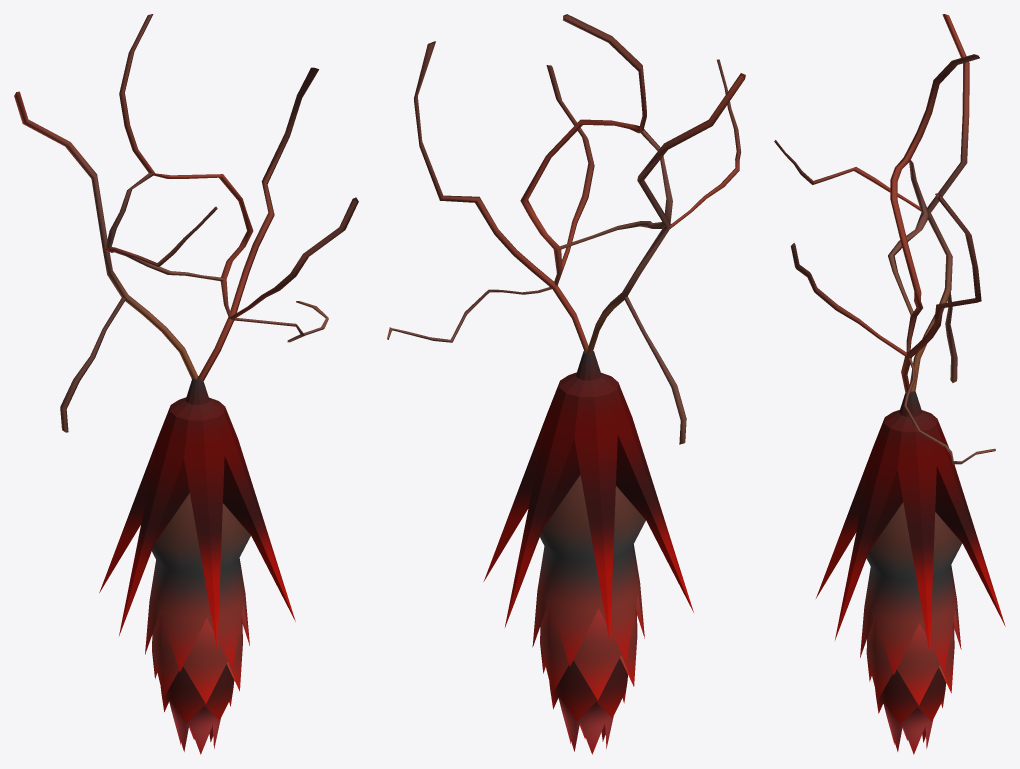
Rendered from Dread_Fruit_Pivot.fbx.
The picture shows the model from 3 angles, left to right: view 1: azimuth 30°, elevation 25°; view 2: azimuth 150°, elevation 25°; view 3: azimuth 270°, elevation 25°; orthographic projection. The views are drawn at different scales.
Visible parts, largest first — view 1: Spike_Fruit; view 2: Spike_Fruit; view 3: Spike_Fruit.
Boxes of the visible parts, x1,y1,x2,y2 form: Spike_Fruit: (14, 14, 358, 754); Spike_Fruit: (387, 14, 745, 754); Spike_Fruit: (774, 14, 1005, 754).
Bounding box in the file's own units: 0.5936 × 1.25 × 0.3834.
